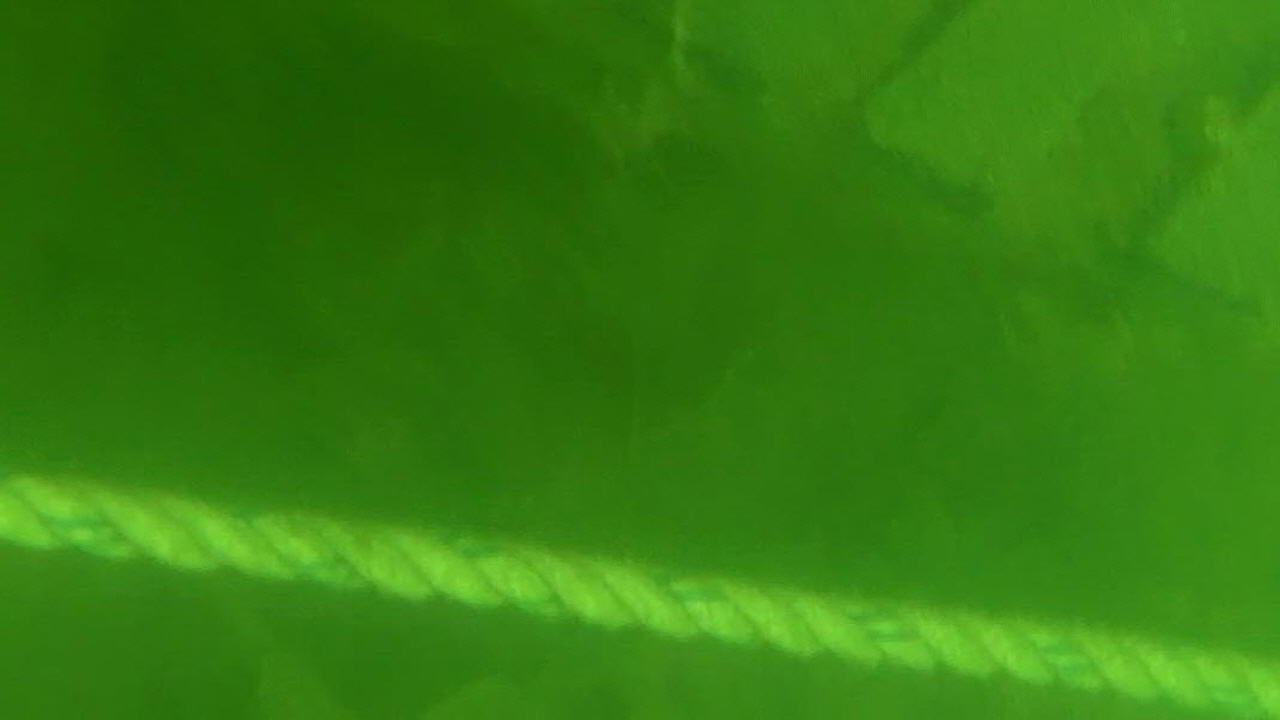rope: (0, 471, 1280, 720)
